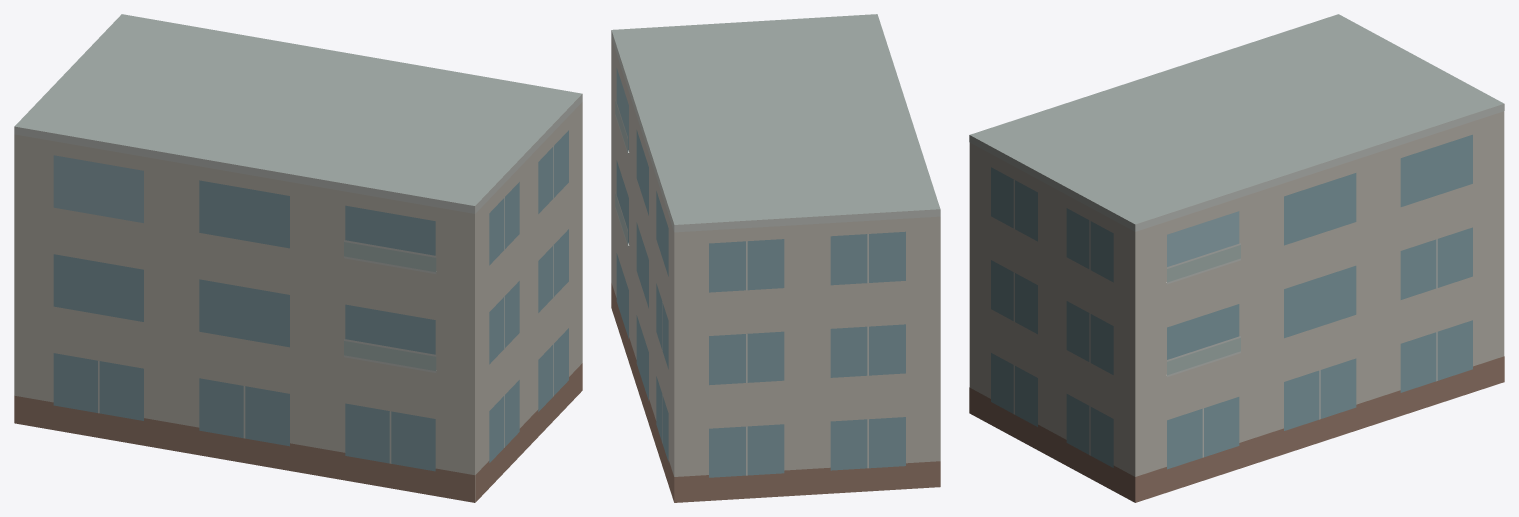
The model's file is survey-upis-32966336.glb.
3 renders of one model, left to right at view 1: azimuth 30°, elevation 25°; view 2: azimuth 150°, elevation 25°; view 3: azimuth 270°, elevation 25°, orthographic. The views are drawn at different scales.
Parts seen in each view (by area): view 1: survey-upis-32966336.tmp; view 2: survey-upis-32966336.tmp; view 3: survey-upis-32966336.tmp.
Boxes of the visible parts, x1,y1,x2,y2 form: survey-upis-32966336.tmp: [14, 14, 582, 502]; survey-upis-32966336.tmp: [611, 14, 940, 502]; survey-upis-32966336.tmp: [969, 14, 1504, 502].
Bounding box in the file's own units: 14.85 × 9.15 × 15.95.
